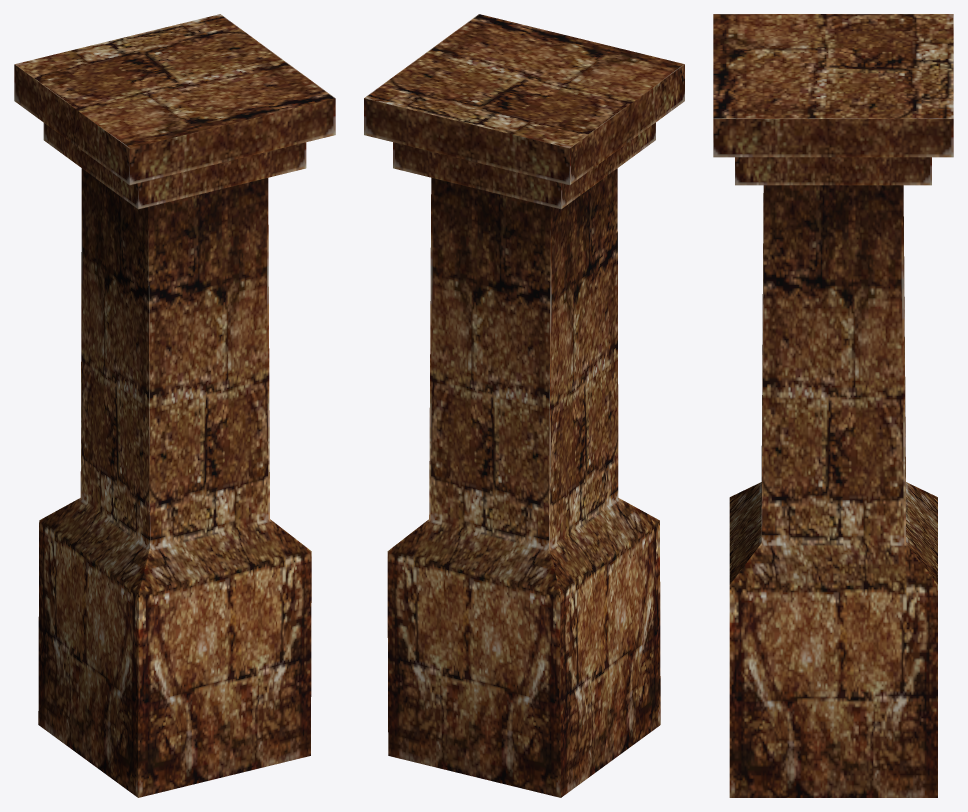
File: pyrst_p2.glb
The picture shows the model from 3 angles, left to right: view 1: azimuth 30°, elevation 25°; view 2: azimuth 150°, elevation 25°; view 3: azimuth 270°, elevation 25°; orthographic projection. The views are drawn at different scales.
Visible parts, largest first — view 1: pyrst_p2; view 2: pyrst_p2; view 3: pyrst_p2.
Part boxes in pixels (box(x1,y1,x2,y2)): pyrst_p2: box(14, 14, 335, 797); pyrst_p2: box(364, 14, 684, 797); pyrst_p2: box(713, 14, 953, 797).
Bounding box in the file's own units: 1.32 × 4.04 × 1.28.
Materials: 1 (1 with a texture image).
